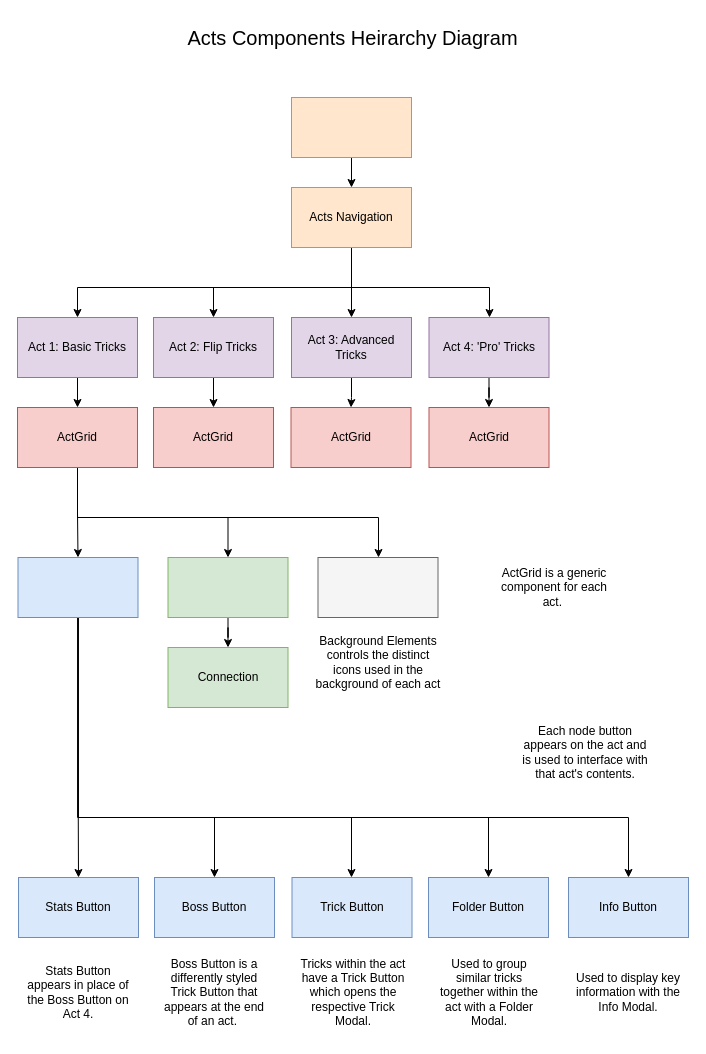
Image size: 706x1054. Some labels were removed from this diagram. Here are the shapes that lost their labels. From the top down, the box of each, then its label:
(290, 96, 412, 158): App Container
(17, 556, 138, 618): Node Buttons
(167, 556, 288, 618): Connection Container
(317, 556, 438, 618): Background Elements
